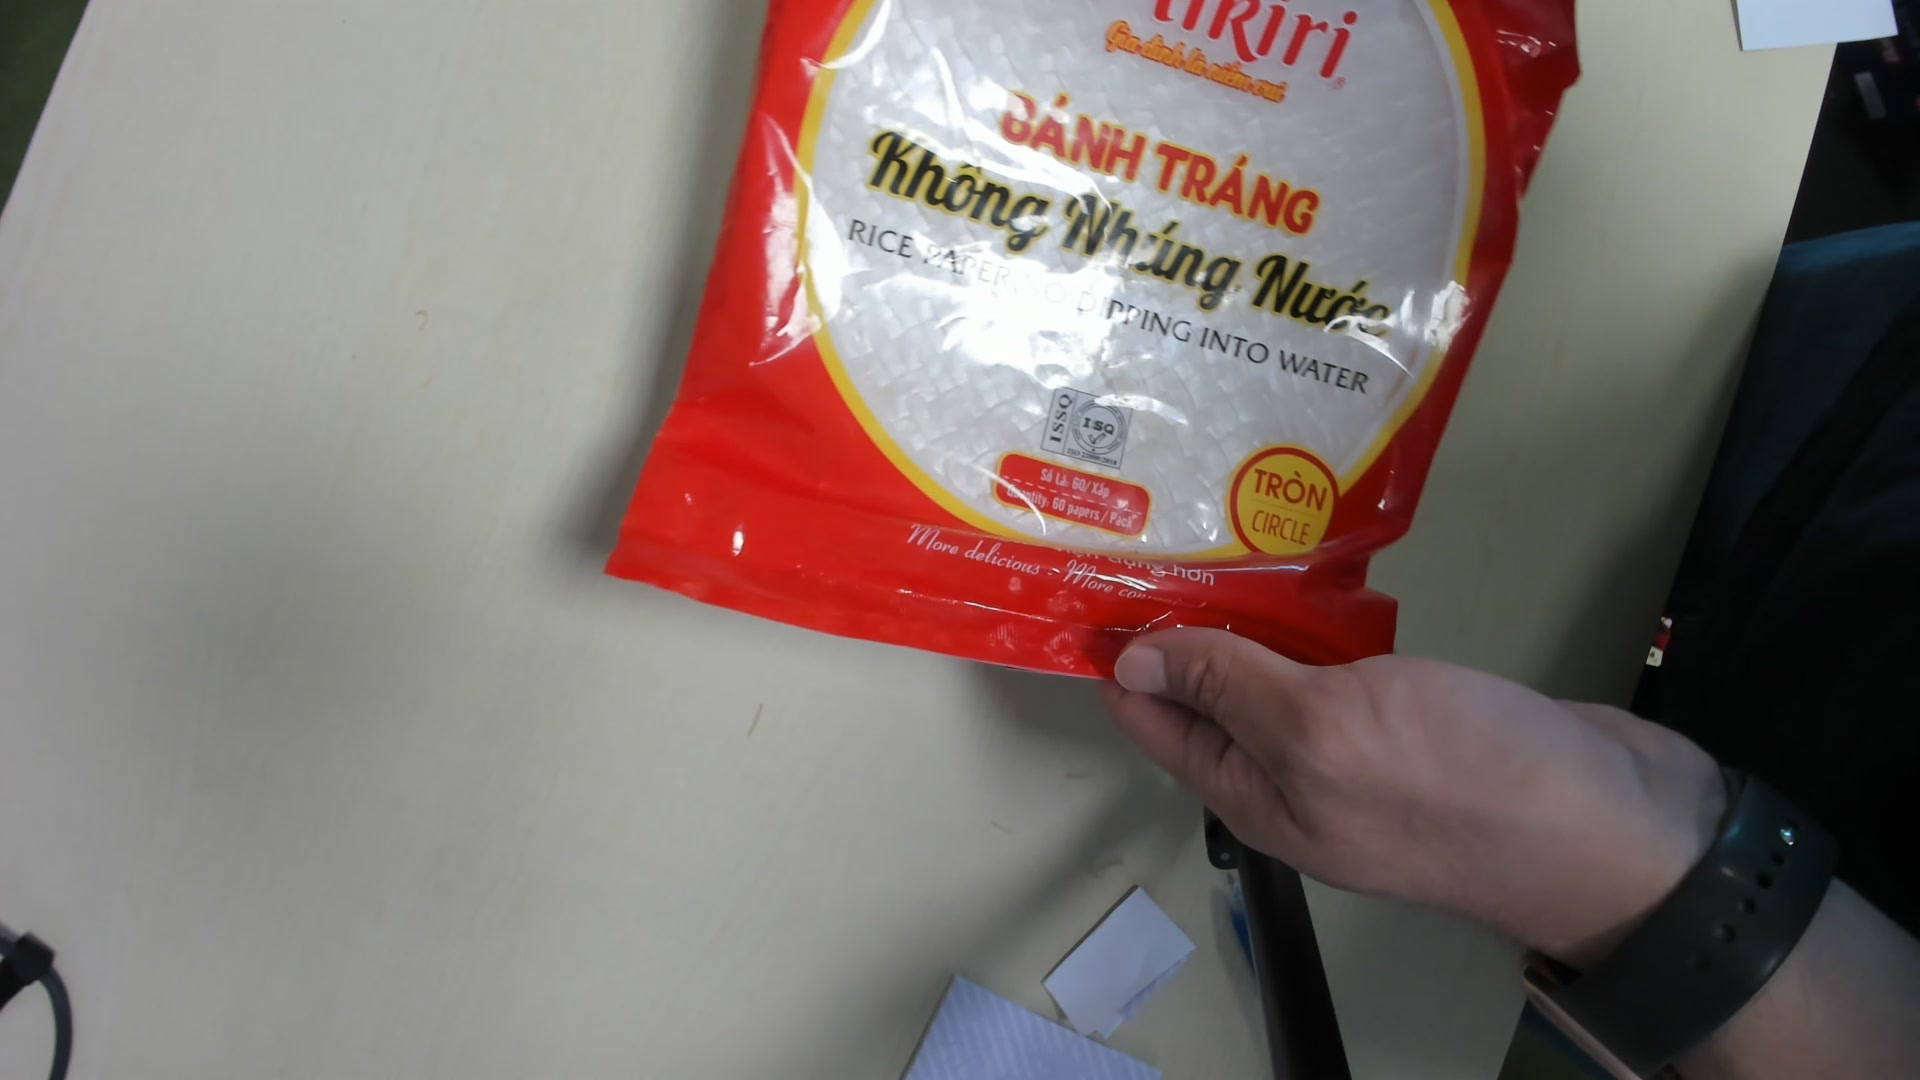InstantMeals_200_299g_NonHalal_NonHealthy: (591, 5, 1582, 687)
